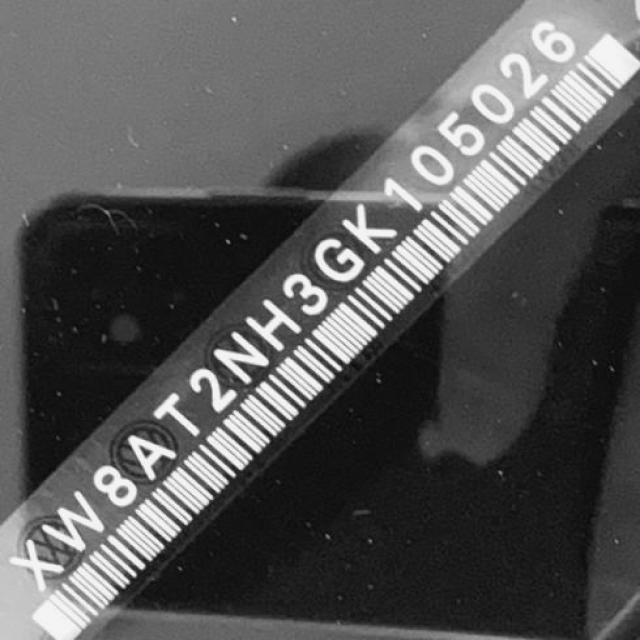0: (394, 128, 468, 200), (457, 69, 528, 135)
1: (365, 164, 436, 225)
2: (177, 355, 250, 419), (488, 43, 558, 106)
3: (264, 261, 344, 330)
5: (425, 98, 501, 172)
6: (515, 12, 591, 79)
8: (80, 453, 150, 521)
A: (115, 419, 188, 491)
G: (300, 225, 379, 301)
H: (237, 289, 311, 363)
K: (331, 194, 409, 262)
N: (206, 319, 282, 395)
T: (148, 384, 223, 455)
W: (31, 479, 122, 568)
X: (0, 535, 72, 600)
